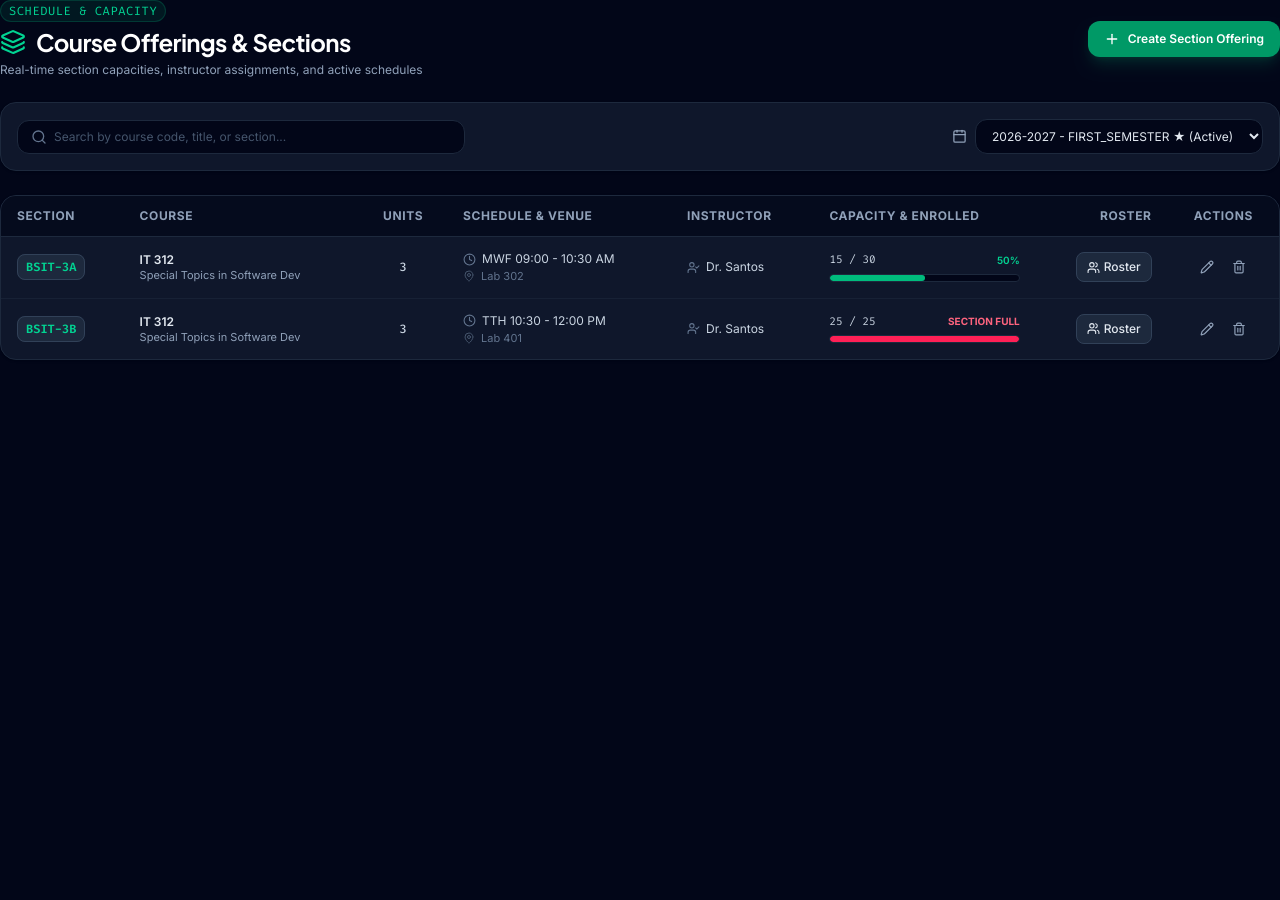
OfferingsPage Component › should open student roster modal when Roster button is clicked
Expected: the text "BSIT-3A" is shown, top-left (17, 254), bottom-right (85, 280)
What coordinates should you click on to do the following:
click the button with aria-label "View Roster for BSIT-3A"
I would click on:
 (1114, 267)
Its box is top-left (1076, 252), bottom-right (1152, 282).
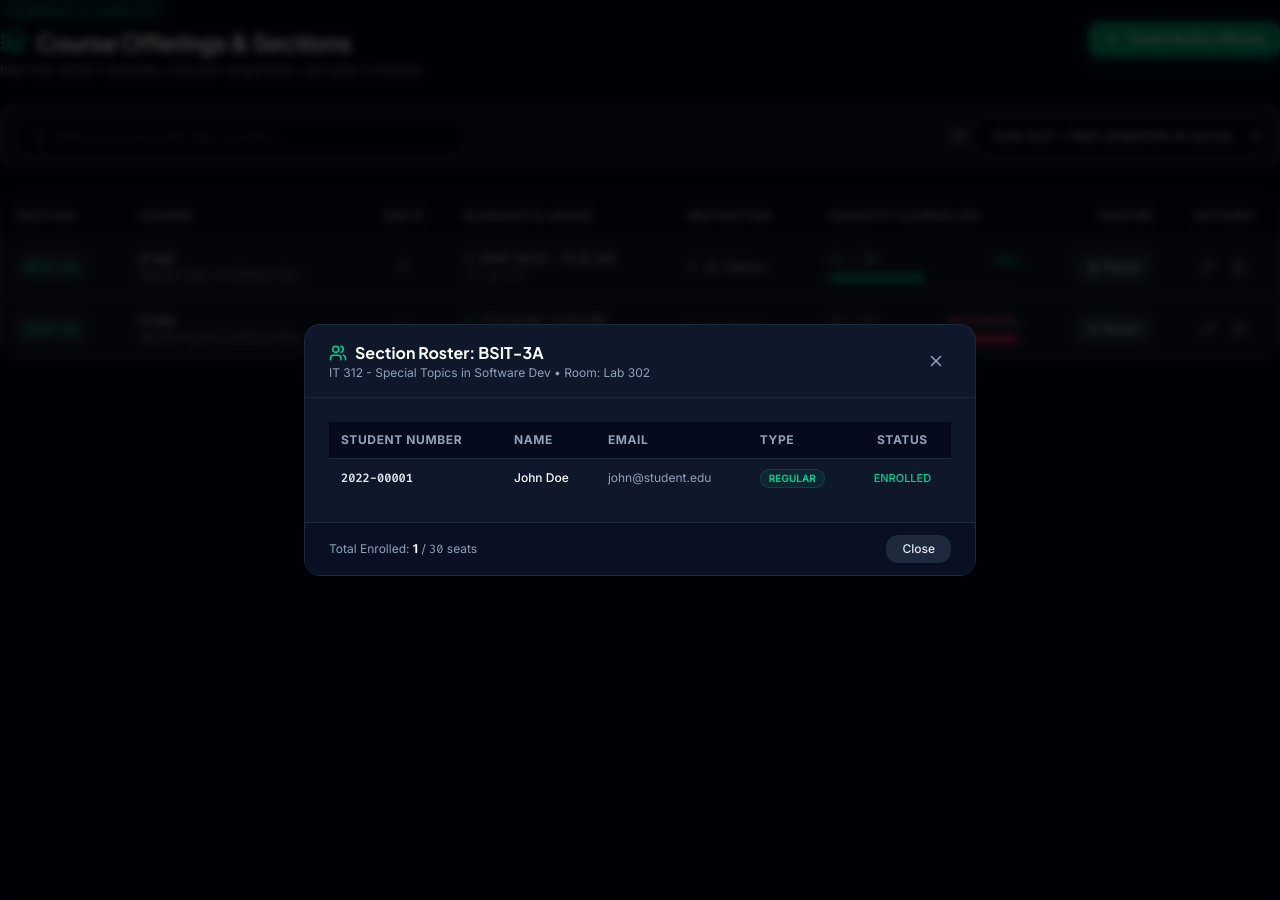
Result: the text "Section Roster: BSIT-3A" is shown at top-left (355, 341), bottom-right (544, 365)
Result: the text "2022-00001" is shown at top-left (329, 458), bottom-right (502, 498)
Result: the text "John Doe" is shown at top-left (502, 458), bottom-right (596, 498)
